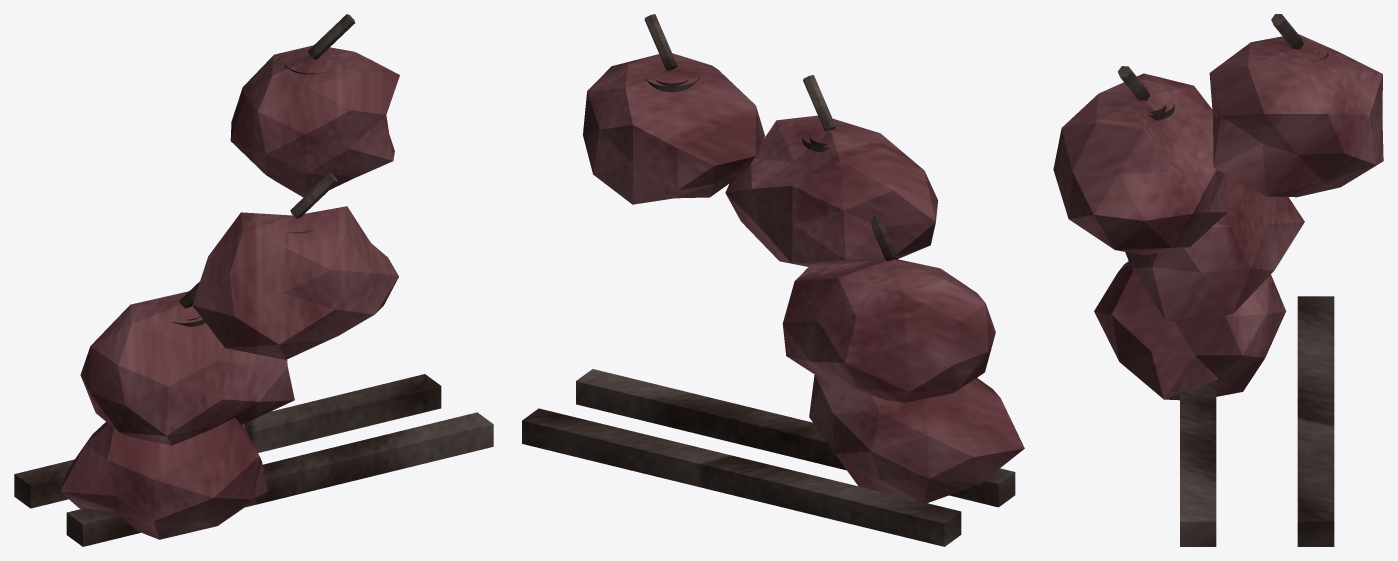
File: 0803_sack_stack_03.glb
The picture shows the model from 3 angles, left to right: view 1: azimuth 30°, elevation 25°; view 2: azimuth 150°, elevation 25°; view 3: azimuth 270°, elevation 25°; orthographic projection. The views are drawn at different scales.
Visible parts, largest first — view 1: cloth, wood_dark; view 2: cloth, wood_dark; view 3: cloth, wood_dark.
Part boxes in pixels (box(x1,y1,x2,y2)): cloth: box(60, 45, 399, 539); wood_dark: box(14, 14, 493, 546); cloth: box(583, 53, 1024, 502); wood_dark: box(522, 14, 1015, 546); cloth: box(1053, 34, 1383, 400); wood_dark: box(1113, 14, 1334, 546).
Size of the model in its own units: 1.97 by 1.9 by 1.18.
Materials: 2 (2 with a texture image).
